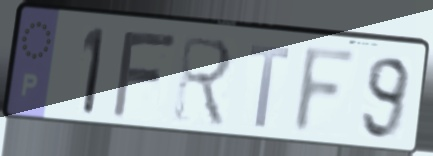1: (78, 24, 107, 119)
9: (358, 54, 414, 142)
F: (289, 43, 363, 139), (108, 31, 181, 122)
R: (171, 32, 235, 131)
T: (247, 41, 294, 132)
